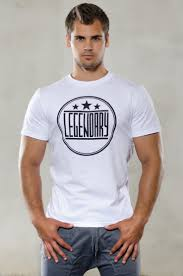T-Shirt_Regular: (14, 64, 172, 236)
